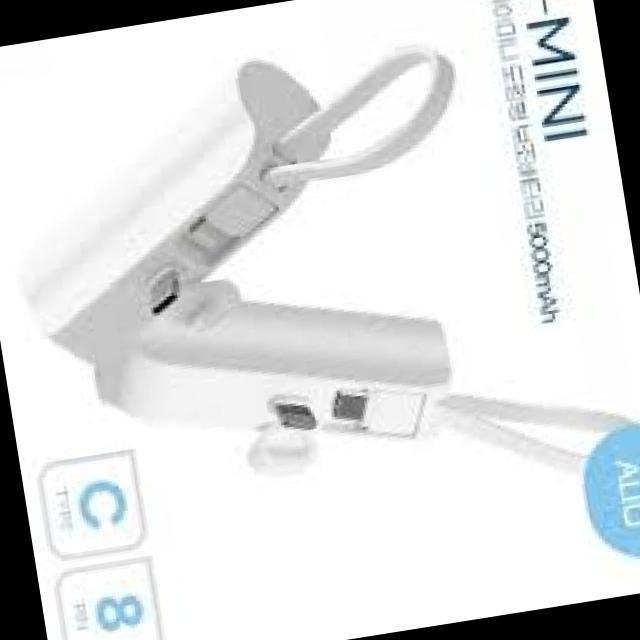portable-charger: (0, 52, 363, 378), (80, 251, 468, 511)
